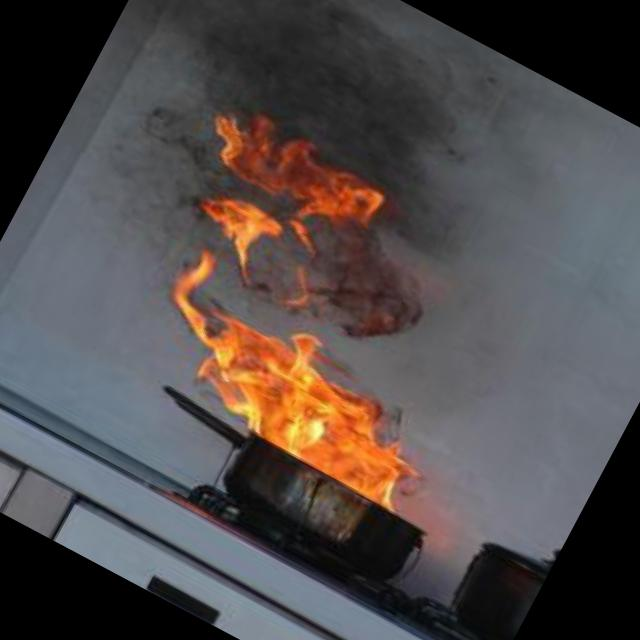fire: (97, 94, 546, 518)
smoke: (98, 0, 555, 250), (296, 199, 459, 371)
